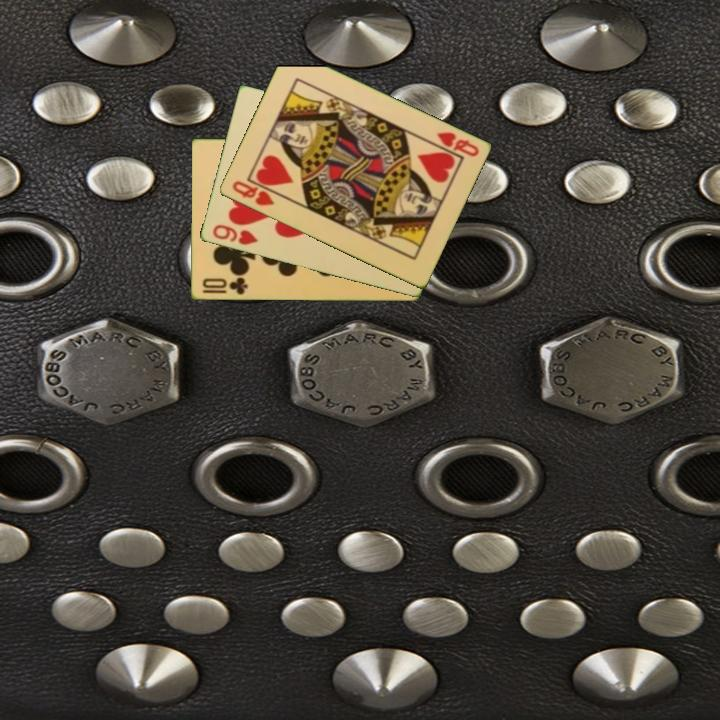10c: (199, 274, 250, 298)
9h: (209, 221, 261, 248)
Qh: (228, 177, 277, 209), (433, 128, 482, 160)
